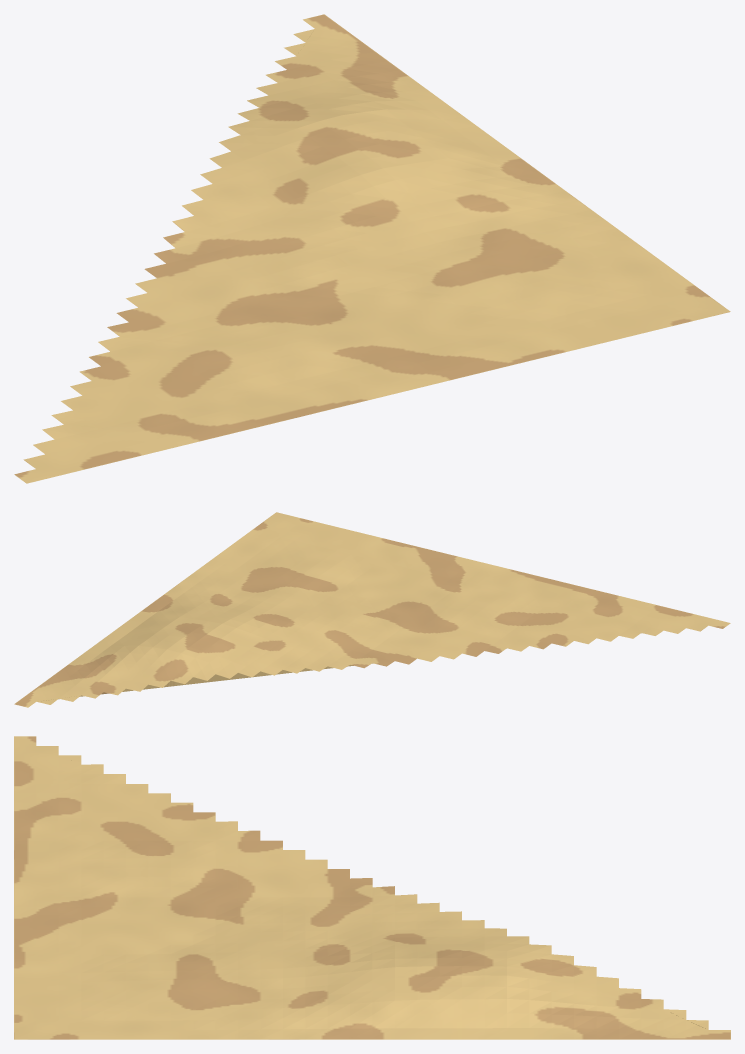
Rendered from Desert_Flat_03_NE.obj.
The picture shows the model from 3 angles, top to bottom: view 1: azimuth 30°, elevation 25°; view 2: azimuth 150°, elevation 25°; view 3: azimuth 270°, elevation 25°; orthographic projection. The views are drawn at different scales.
Size of the model in its own units: 10 by 0.2571 by 10.
Materials: 1 (1 with a texture image).
